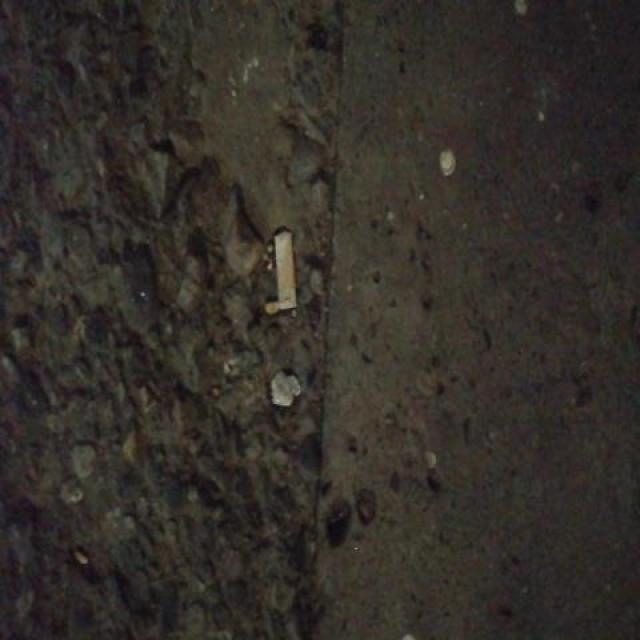non-organic waste: (269, 225, 302, 316)
